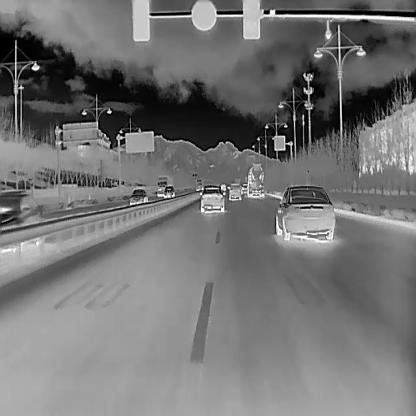car: (274, 183, 335, 240), (0, 189, 41, 229), (198, 184, 226, 213), (128, 188, 148, 204), (228, 182, 241, 200), (163, 186, 175, 198), (240, 182, 248, 194), (219, 182, 227, 190)
truck: (246, 162, 264, 198), (155, 174, 175, 196), (194, 177, 204, 191)
